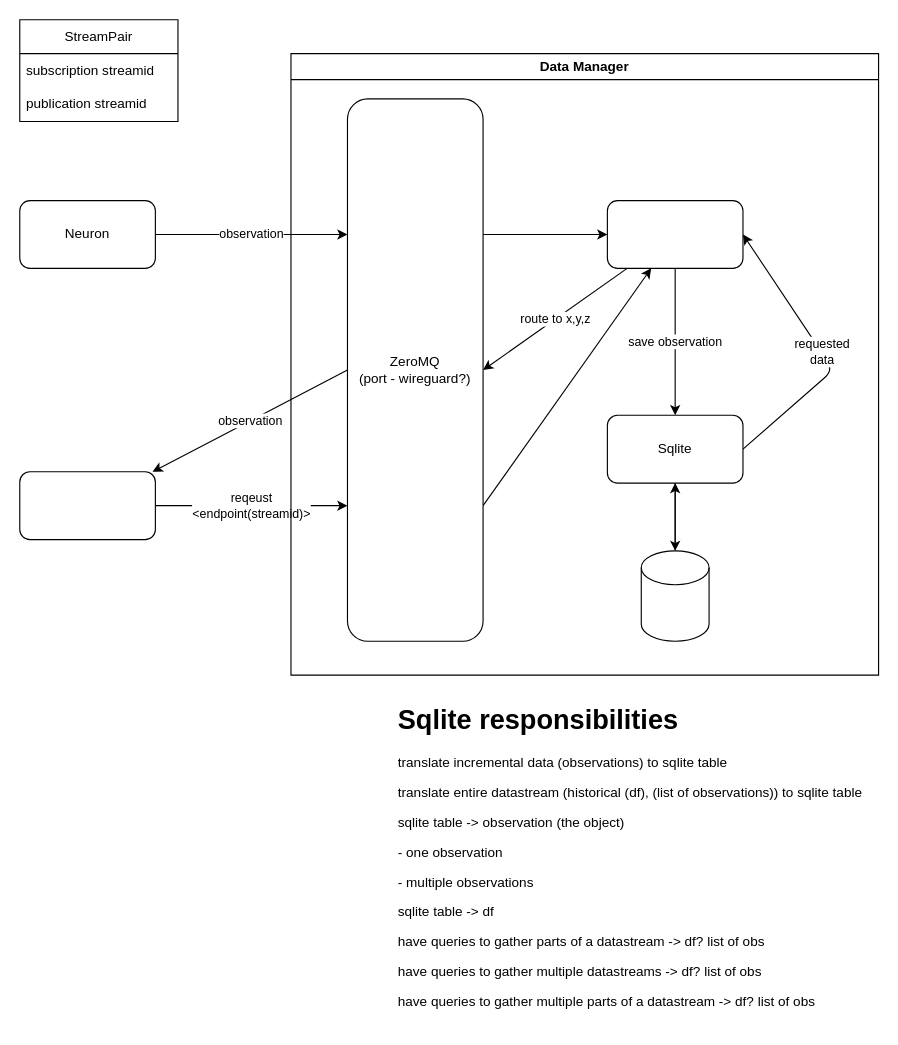
The diagram is 898 pixels wide and 1045 high, and some of its shapes have lost their labels. The centre of each missing label's shape, as x and y in pixels:
"Engine" goes at point (87, 505).
"Router" goes at point (674, 233).
